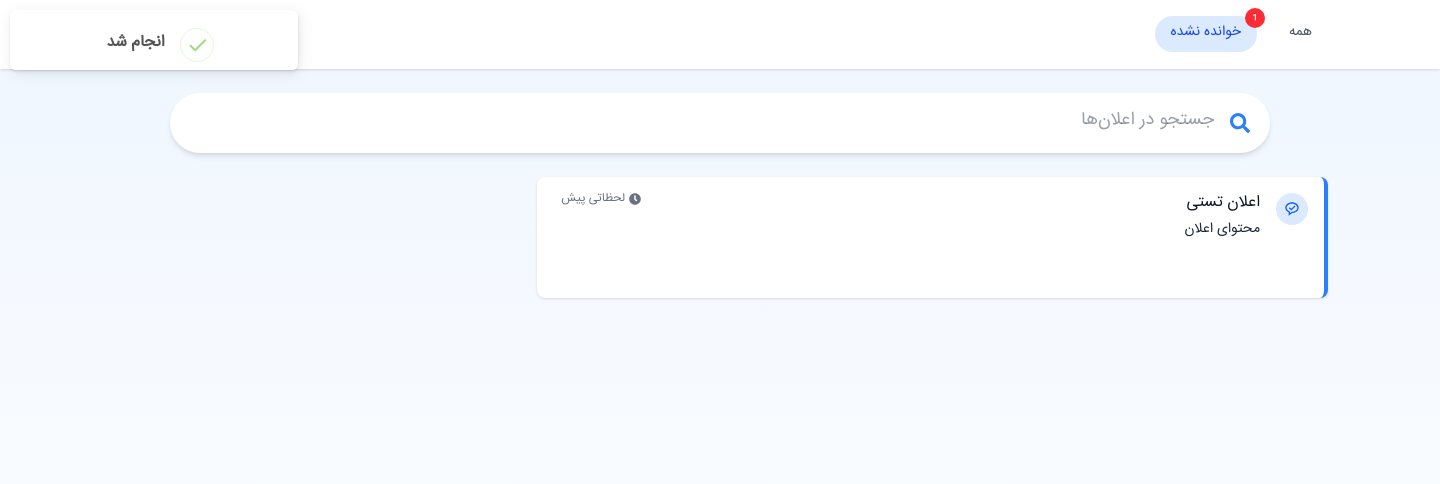
AllNotifPage - Notifications Interaction › filters notifications based on search input
The image size is (1440, 484).
Expected: the heading "اعلان تستی" is shown, [1187, 193, 1260, 217]
In the field with placeholder "جستجو در اعلان‌ها": coordinates (700, 123) [170, 93, 1230, 153], type "چیزی که نیست"
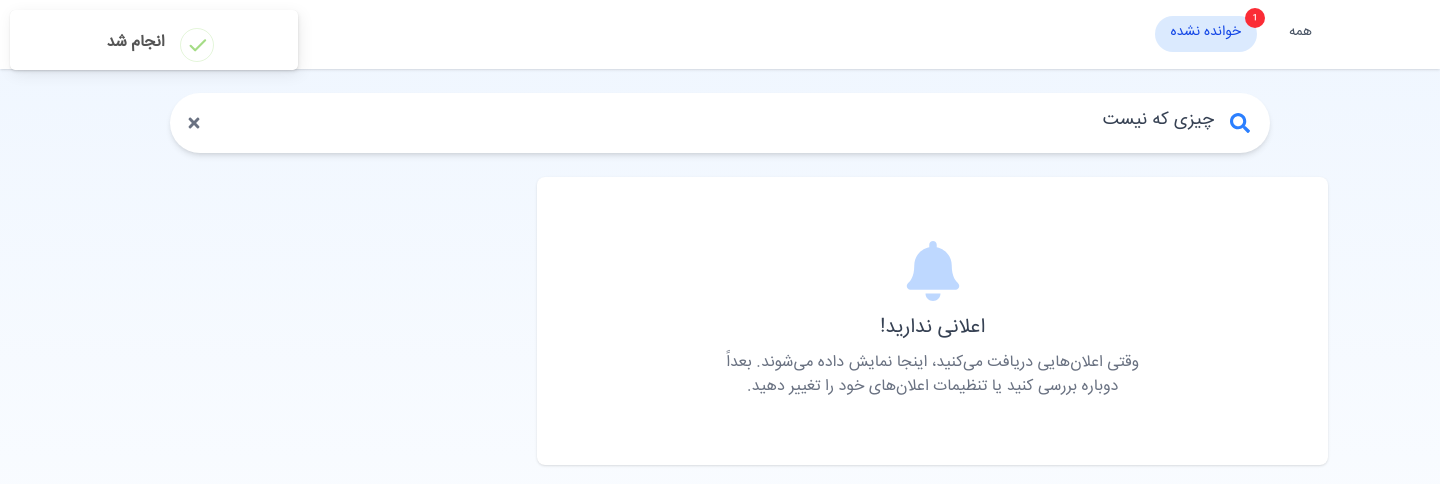
Expected: the heading "اعلان تستی" is gone
Replace the text in the field with placeholder "جستجو در اعلان‌ها" with "اعلان": coordinates (724, 123) [218, 93, 1230, 153]
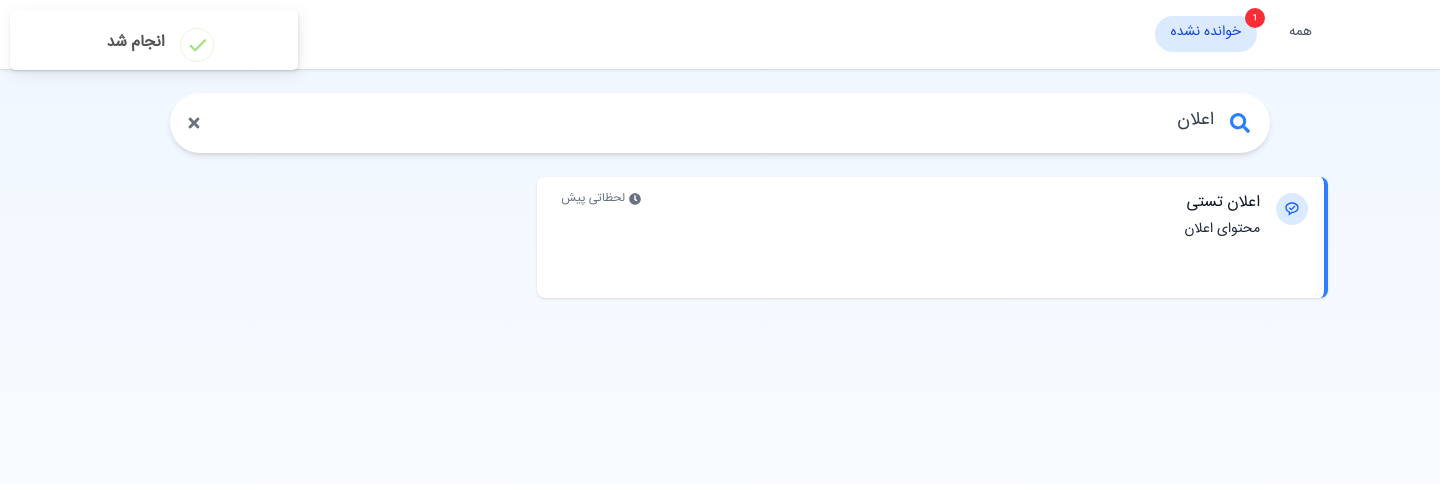
Expected: the heading "اعلان تستی" is shown, [1187, 193, 1260, 217]
